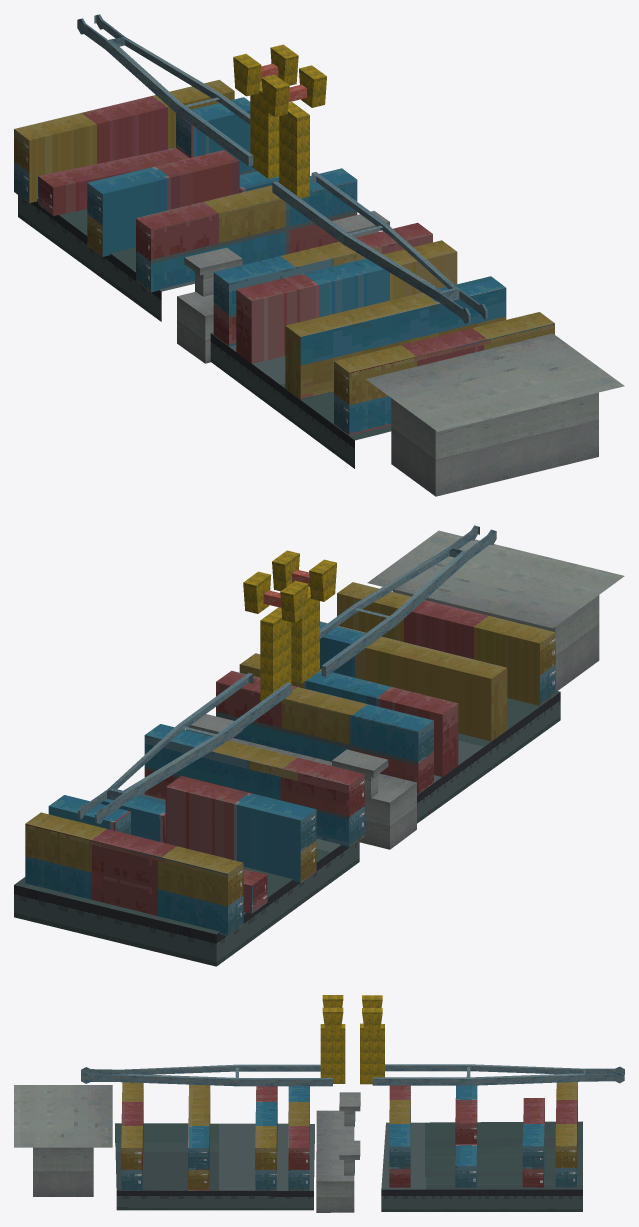
Rendered from lodcargoshp03d.obj.
3 views of the same model, one above another, from view 1: azimuth 30°, elevation 25°; view 2: azimuth 150°, elevation 25°; view 3: azimuth 270°, elevation 25° (orthographic). The views are drawn at different scales.
Visible parts, largest first — view 1: LODcargoshp03d; view 2: LODcargoshp03d; view 3: LODcargoshp03d.
Part boxes in pixels (box(x1,y1,x2,y2)): LODcargoshp03d: box(14, 14, 624, 496); LODcargoshp03d: box(14, 525, 624, 966); LODcargoshp03d: box(14, 995, 624, 1212).
Bounding box in the file's own units: 21.87 × 25 × 79.77.
7 materials, 7 textured.
